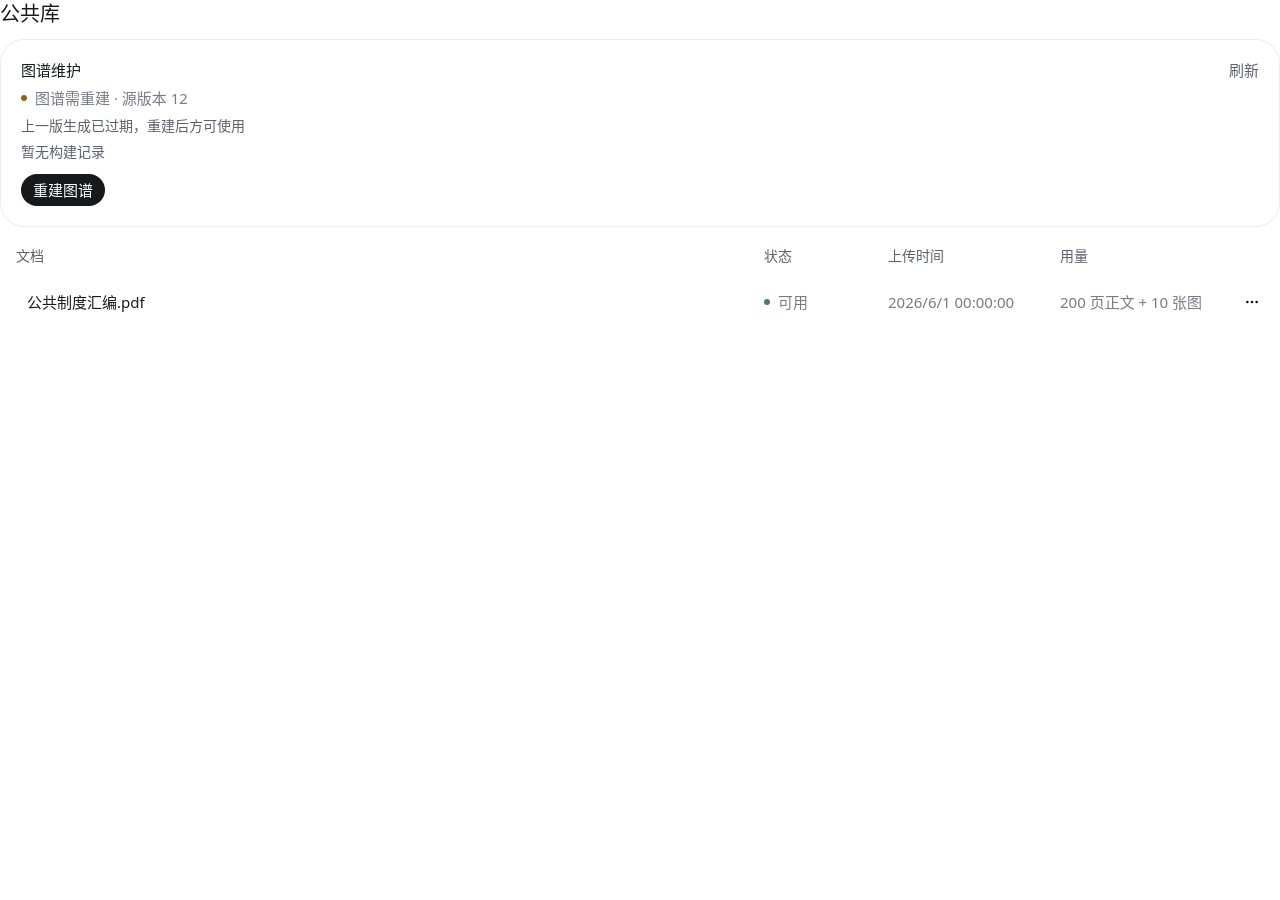
Test: 图谱维护区（§6.12，ops） › 取消按 allowed_actions 渲染；取消成功轻提示并回到无进行中状态
Click the button "重建图谱" at (63, 190), box [21,174,105,206]
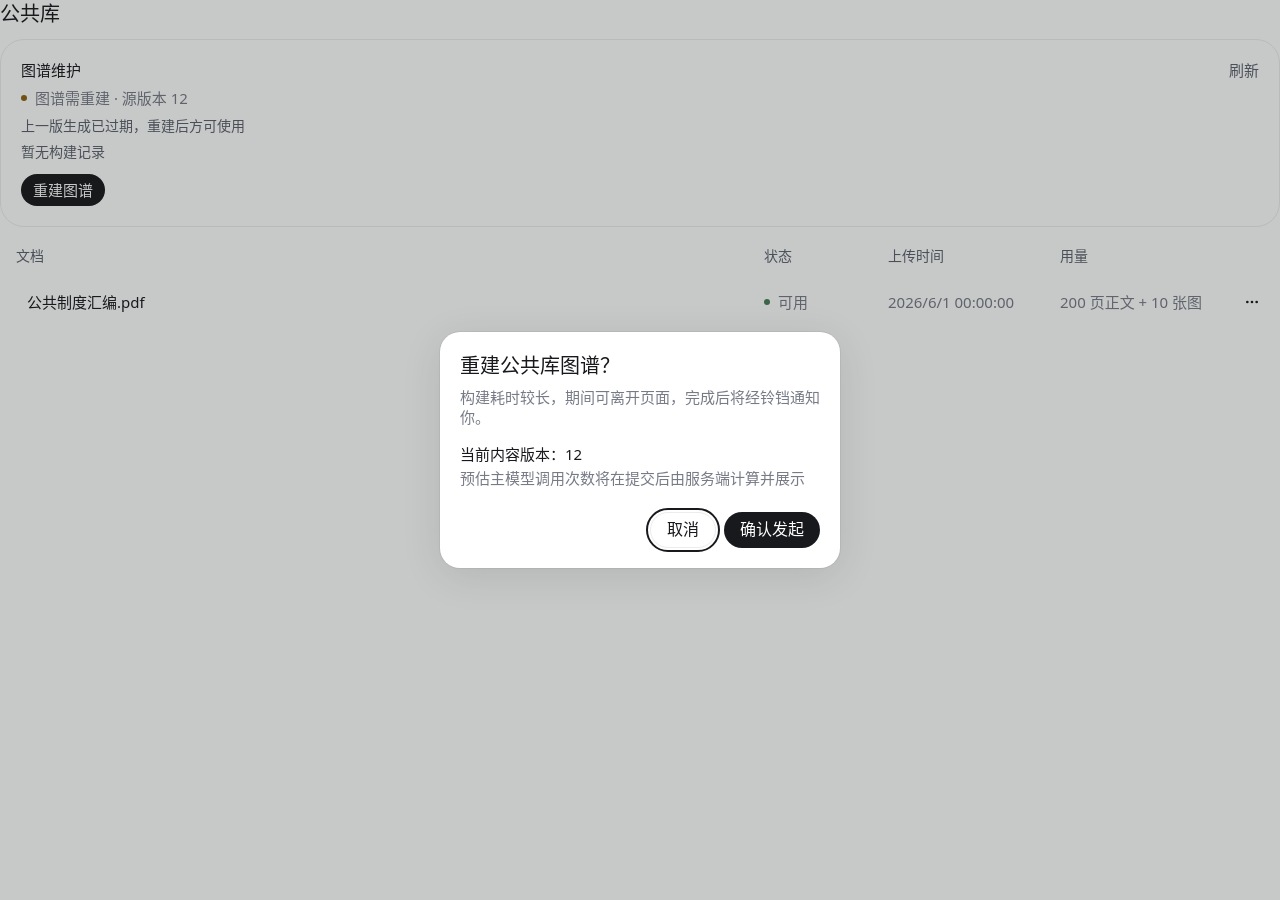
Click the button "确认发起" at (772, 530), box [724,512,820,548]
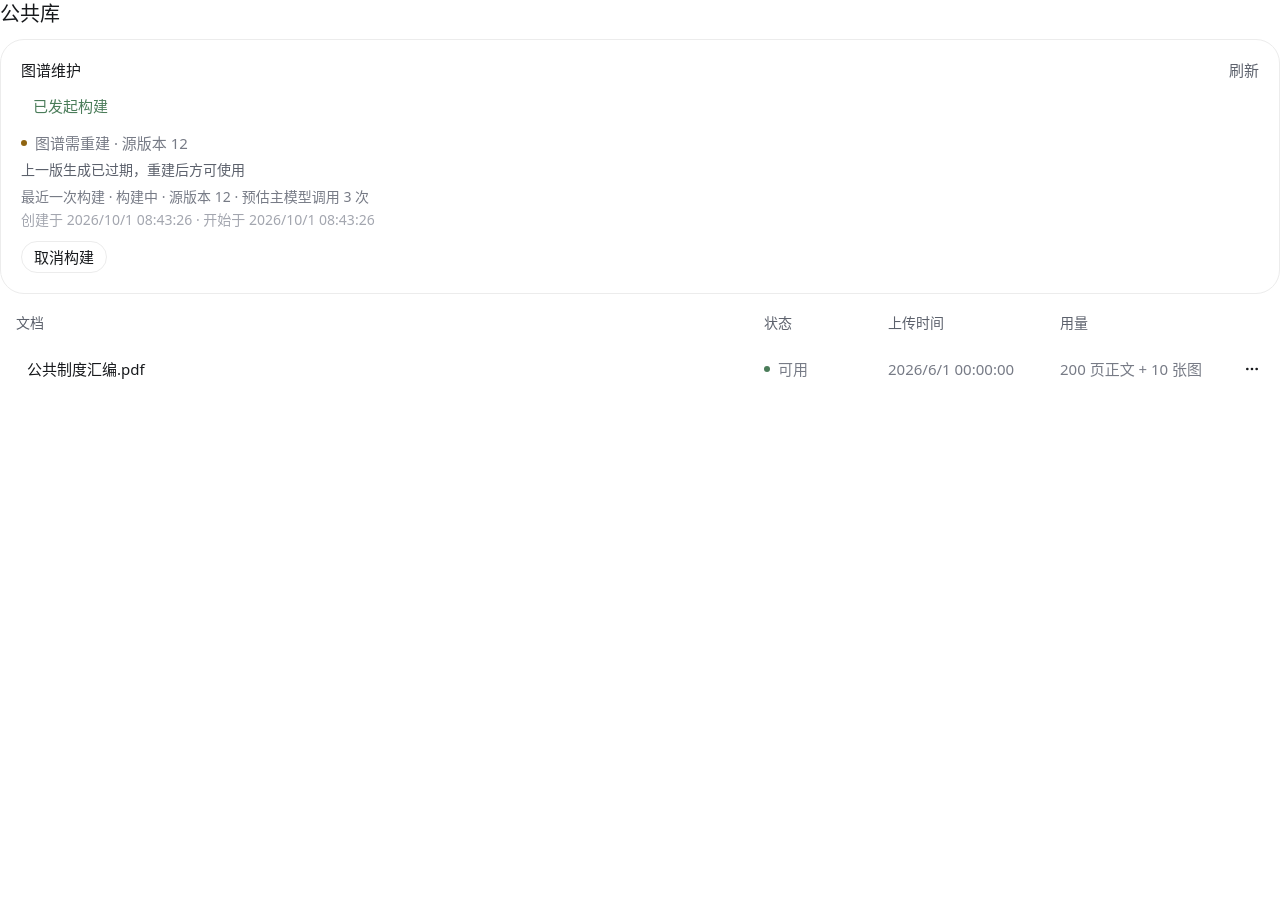
Click the button "取消构建" at (64, 257), box [21,241,107,273]
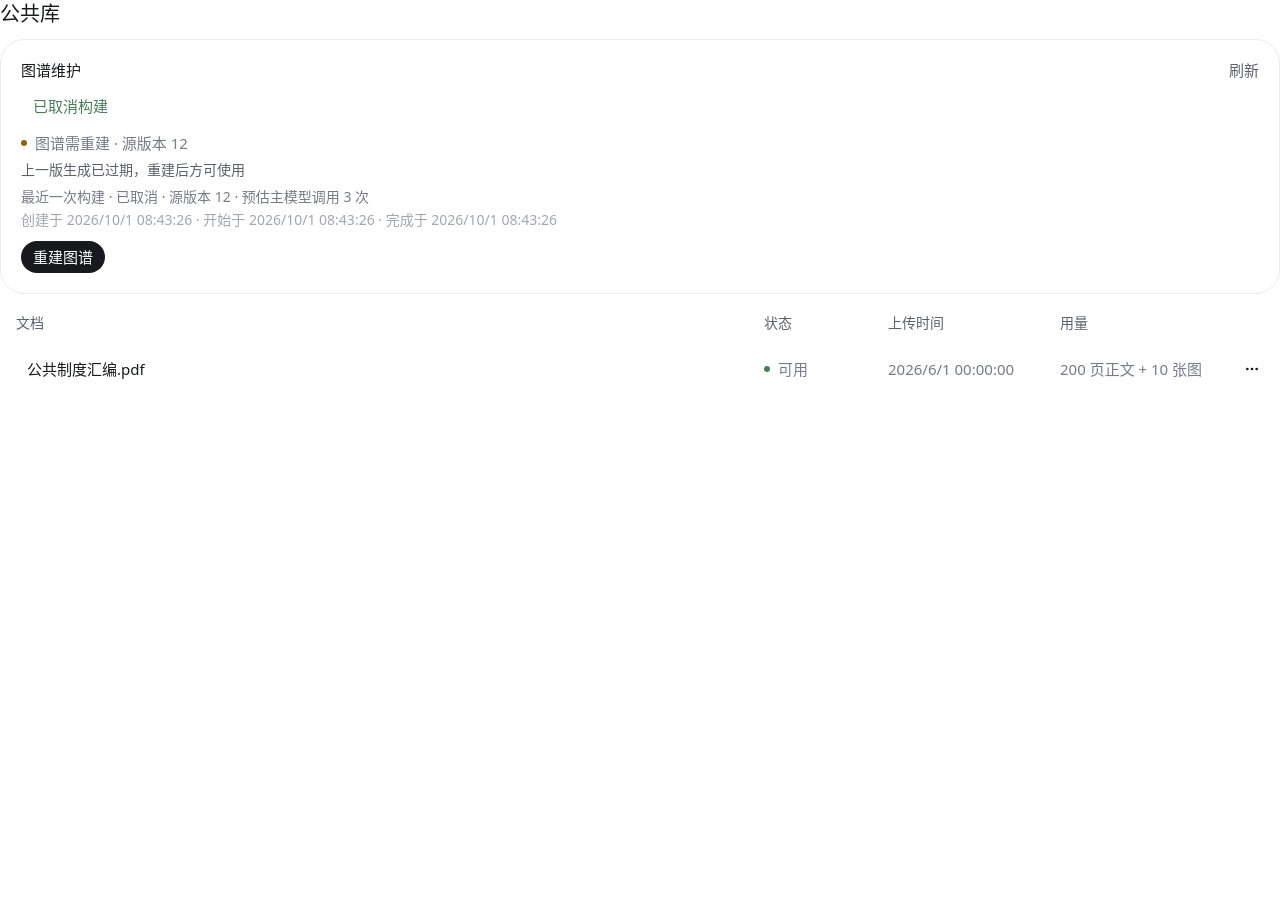
Check: the text "已取消构建" is shown, box [33,96,108,116]
